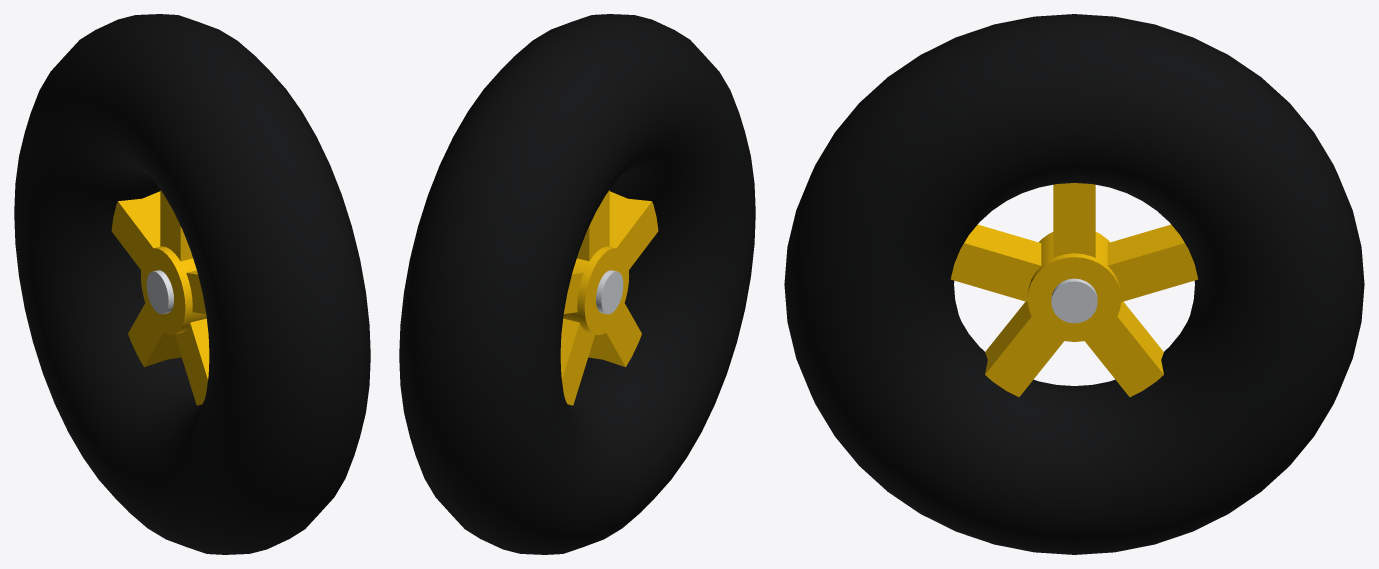
File: A010-LP39_RACERPOP-fr-01-of-01.glb
The picture shows the model from 3 angles, left to right: view 1: azimuth 30°, elevation 25°; view 2: azimuth 150°, elevation 25°; view 3: azimuth 270°, elevation 25°; orthographic projection. The views are drawn at different scales.
Parts seen in each view (by area): view 1: LP39_RACERPOP_Wheel_FR_Part_01; view 2: LP39_RACERPOP_Wheel_FR_Part_01; view 3: LP39_RACERPOP_Wheel_FR_Part_01.
Boxes of the visible parts, x1,y1,x2,y2 form: LP39_RACERPOP_Wheel_FR_Part_01: (14, 14, 370, 554); LP39_RACERPOP_Wheel_FR_Part_01: (399, 14, 755, 554); LP39_RACERPOP_Wheel_FR_Part_01: (784, 14, 1364, 554).
Bounding box in the file's own units: 0.2879 × 1 × 1.
